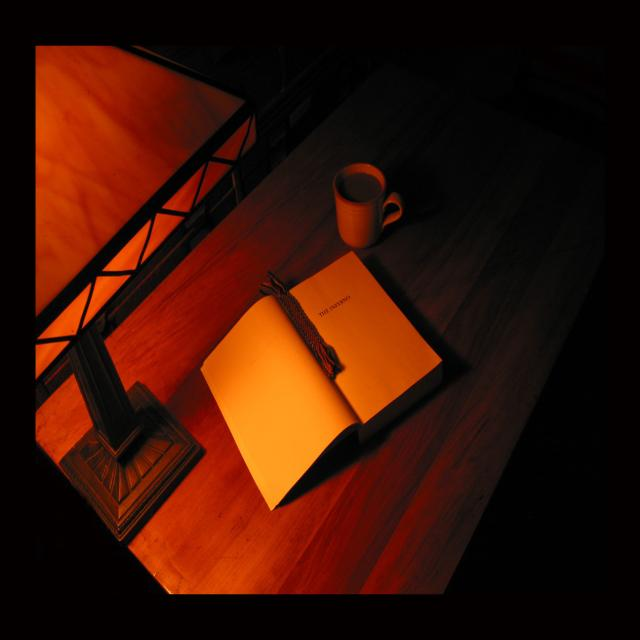Cup: (321, 142, 421, 269)
Table: (0, 0, 629, 640)
